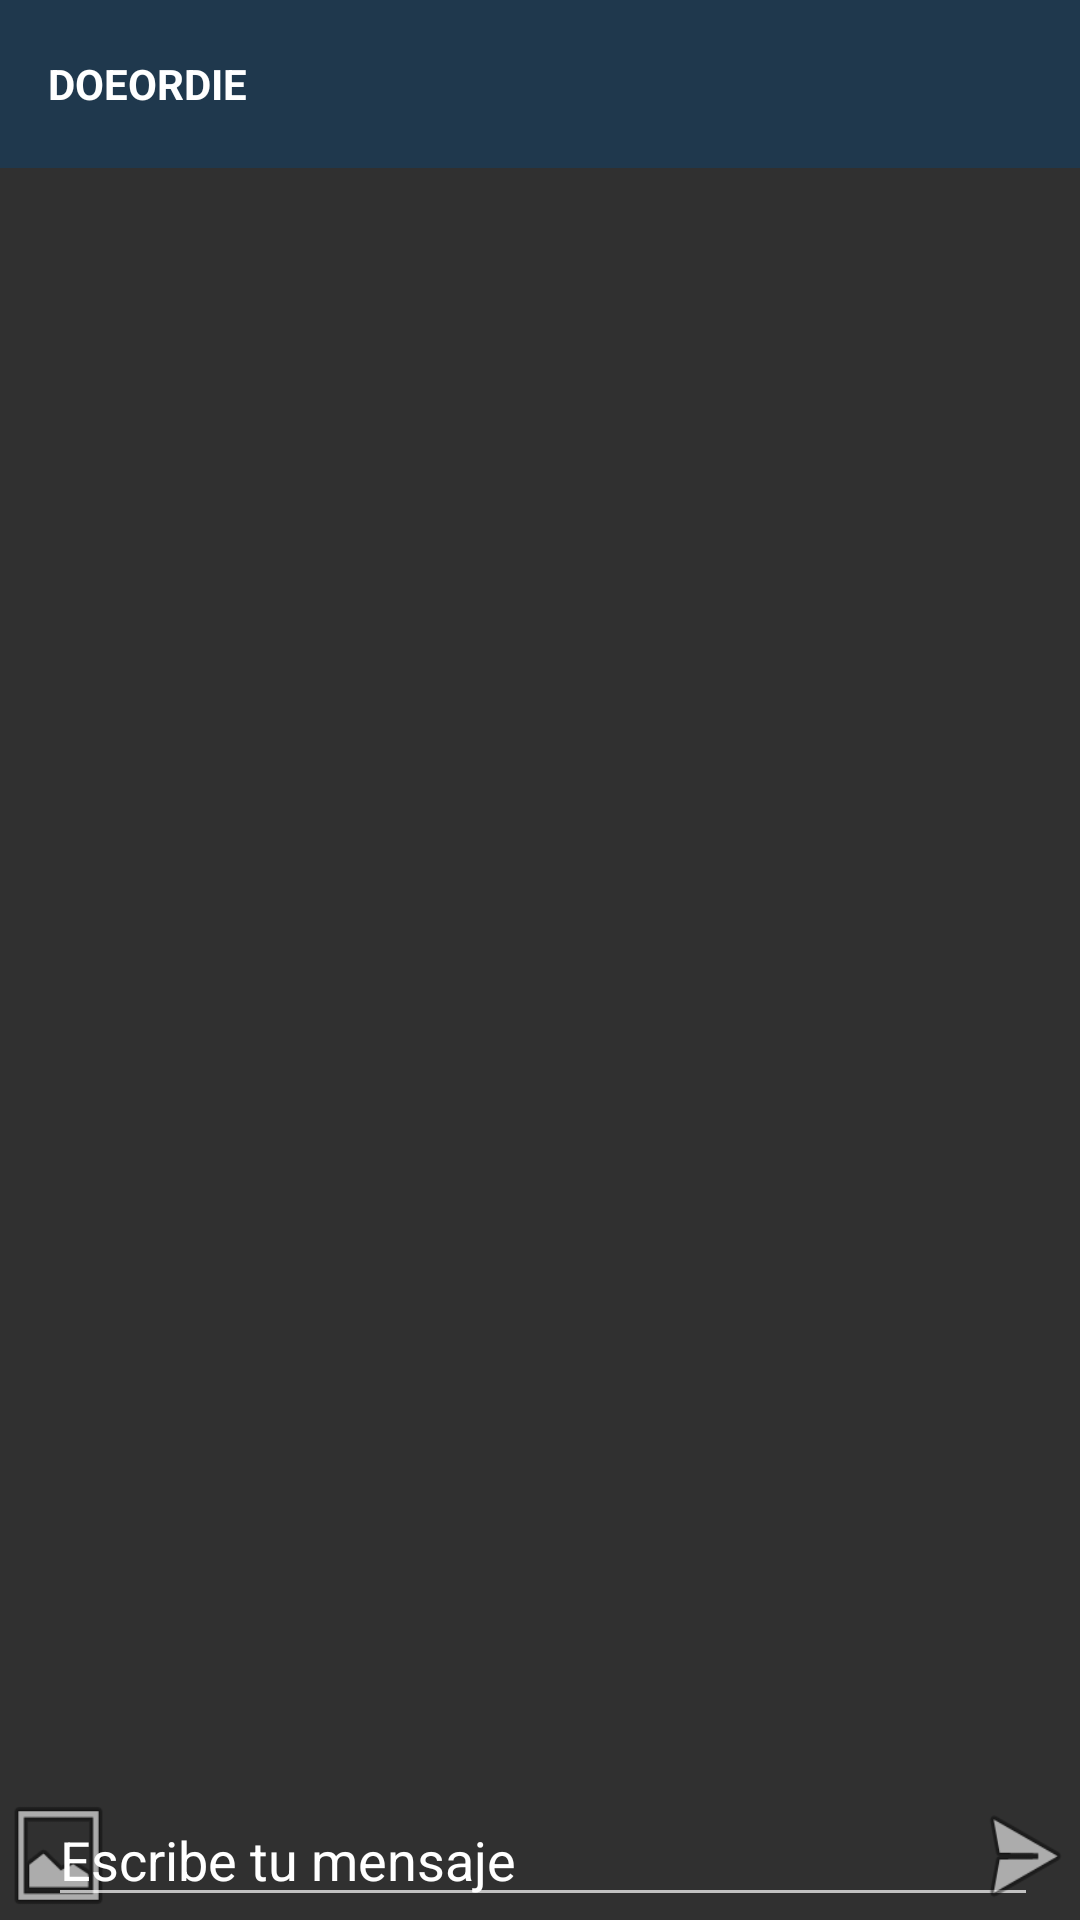

Named icons in this screenshot (1080w x 1920h) and their centers, (x,y):
gallery: (67,1855)
send: (1013,1856)
